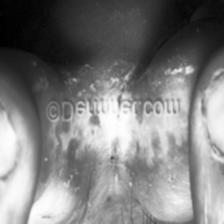Toxin: (58, 117, 138, 159)
